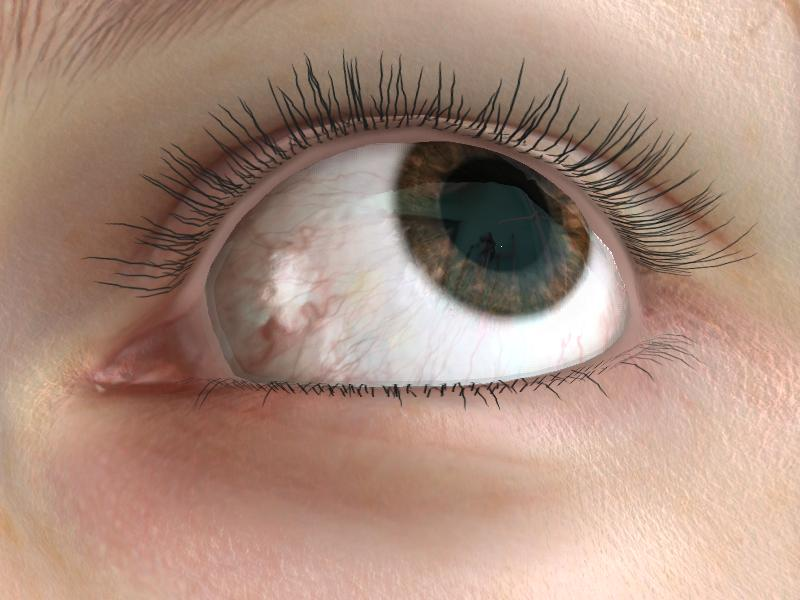eye: (398, 138, 588, 314)
